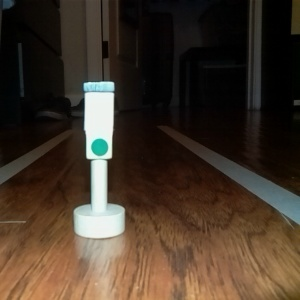traffic light green: (69, 78, 127, 239)
